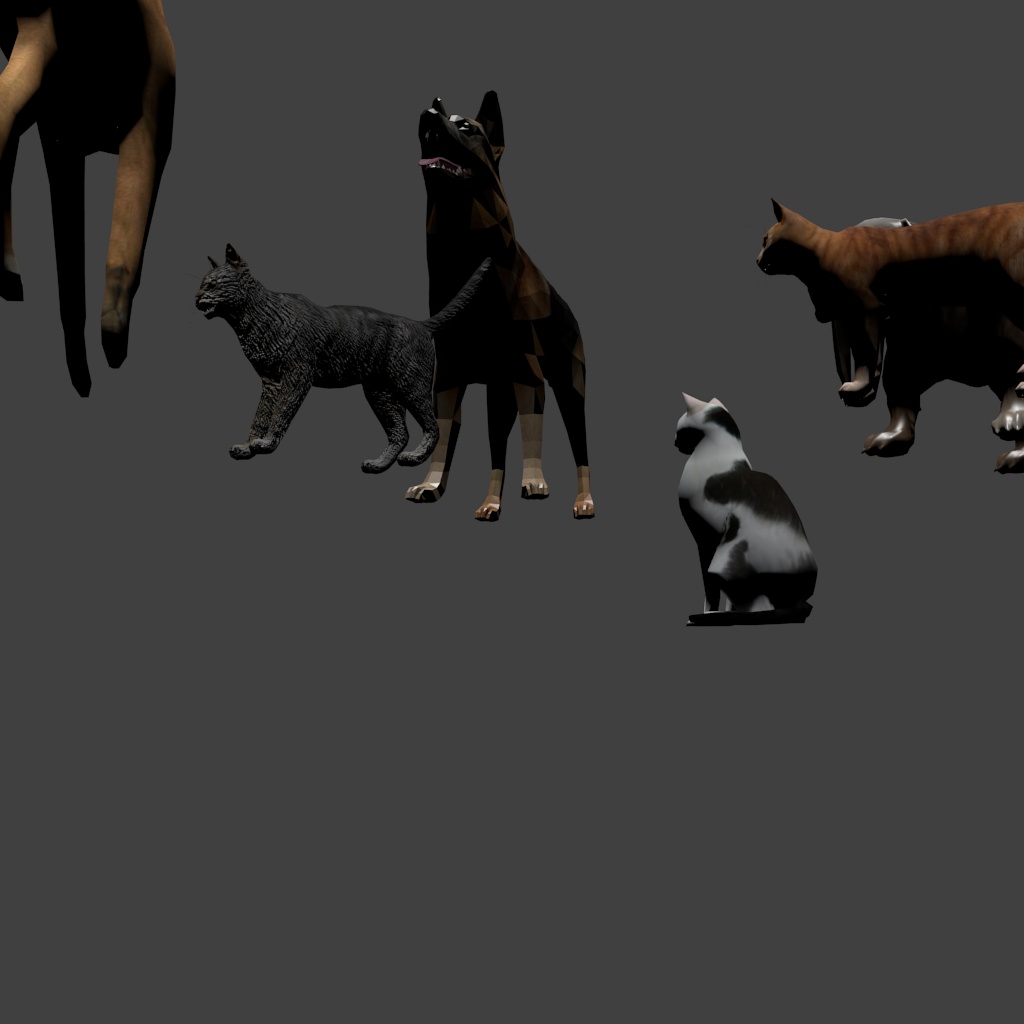Dog: (0, 0, 176, 397)
